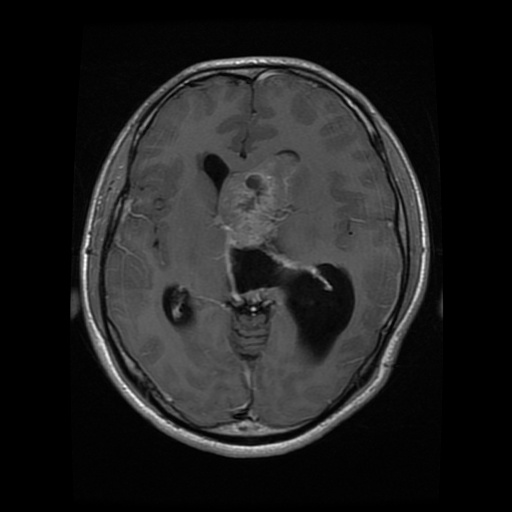glioma: (214, 152, 300, 252)
